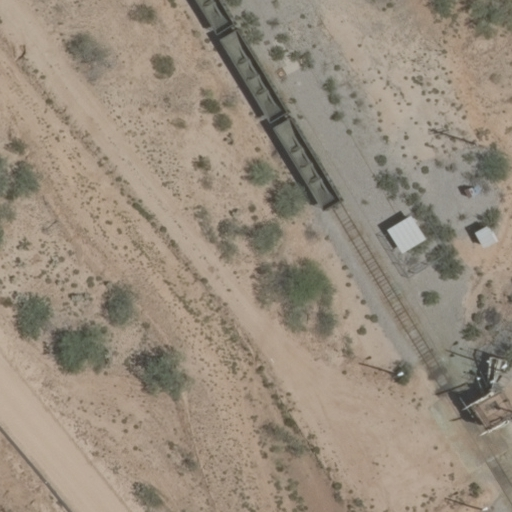DT: (392, 368, 409, 383)
